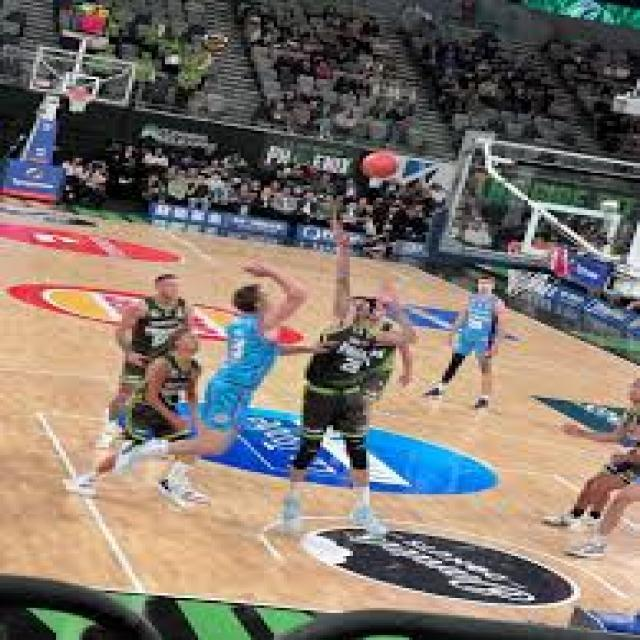rim: (359, 148, 396, 176)
